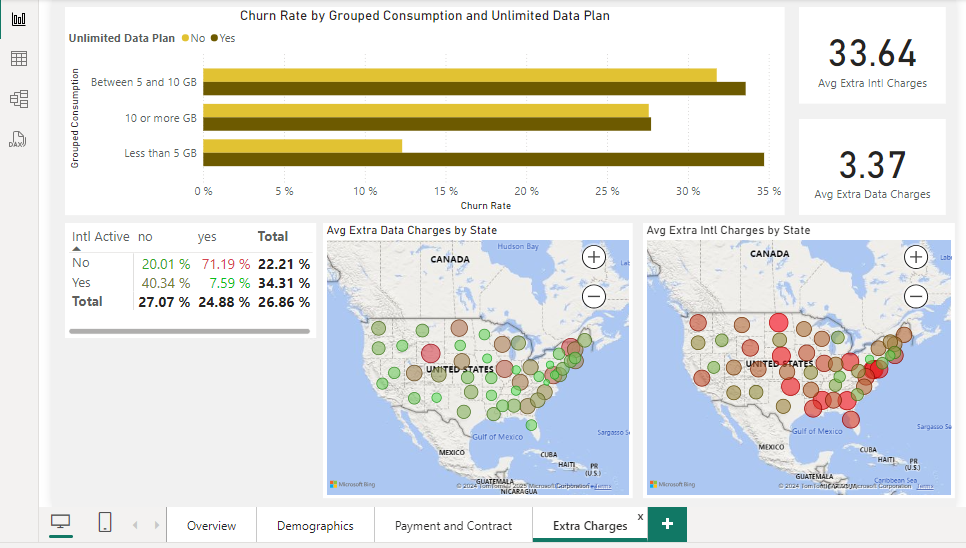

The page's visual inventory and layout, read from the dashboard file:
{"tool":"powerbi","page":{"name":"Extra Charges","canvas":[1280,720],"ordinal":3},"visuals":[{"type":"pivotTable","fields":{"Rows":["Databel - Data.Intl Active"],"Values":["Databel - Data.Churn Rate"],"Columns":["Databel - Data.Intl Plan"]},"box":[18.4,317.5,355.7,163],"z":0},{"type":"map","fields":{"Category":["Databel - Data.State"],"Size":["Databel - Data.Avg Extra Data Charges"]},"box":[384.1,317.5,439.4,389.8],"z":1000},{"type":"card","fields":{"Values":["Databel - Data.Avg Extra Intl Charges"]},"box":[1058.7,11.3,208.3,137.5],"z":2000},{"type":"card","fields":{"Values":["Databel - Data.Avg Extra Data Charges"]},"box":[1058.7,170.1,208.3,136.1],"z":3000},{"type":"clusteredBarChart","fields":{"Category":["Databel - Data.Grouped Consumption"],"Y":["Databel - Data.Churn Rate"],"Series":["Databel - Data.Unlimited Data Plan"]},"box":[18.4,11.3,1020.5,294.8],"z":4000},{"type":"map","fields":{"Category":["Databel - Data.State"],"Size":["Databel - Data.Avg Extra Intl Charges"]},"box":[837.6,317.5,442.2,389.8],"z":5000}]}

Visuals, with their boxes on the page's 1280x720 design canvas (x1, y1, x2, y2). These are canvas units, not pixel positions in the 966x548 screenshot, which may show the page scaled, cropped or inside an application window:
pivotTable - Databel - Data.Intl Active x Databel - Data.Churn Rate: (left=18, top=318, right=374, bottom=480)
map - Databel - Data.State x Databel - Data.Avg Extra Data Charges: (left=384, top=318, right=824, bottom=707)
card - Databel - Data.Avg Extra Intl Charges: (left=1059, top=11, right=1267, bottom=149)
card - Databel - Data.Avg Extra Data Charges: (left=1059, top=170, right=1267, bottom=306)
clusteredBarChart - Databel - Data.Grouped Consumption x Databel - Data.Churn Rate: (left=18, top=11, right=1039, bottom=306)
map - Databel - Data.State x Databel - Data.Avg Extra Intl Charges: (left=838, top=318, right=1280, bottom=707)
